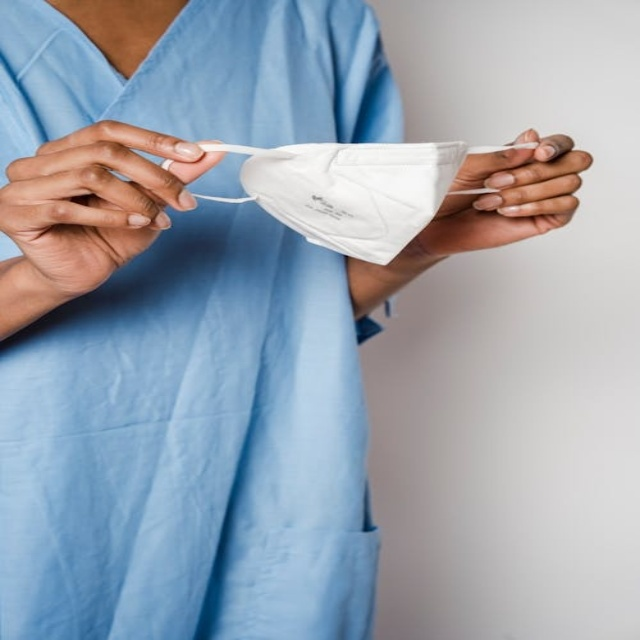Sin_guantes: (1, 118, 216, 296), (386, 124, 588, 265)
